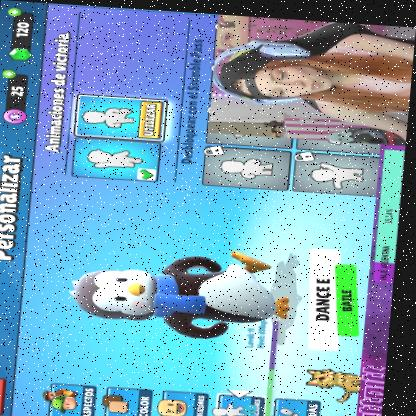streamer: (215, 21, 415, 140)
